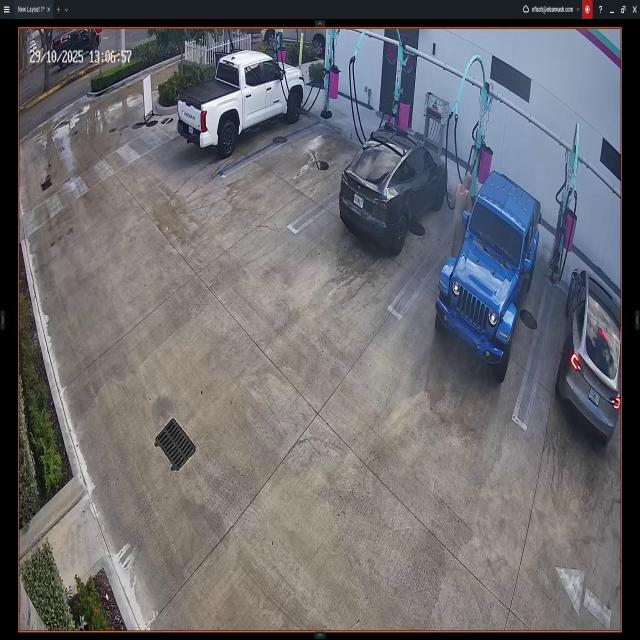Car: (436, 173, 542, 385), (341, 123, 446, 259), (175, 54, 302, 158), (558, 266, 618, 442), (262, 23, 326, 58)
